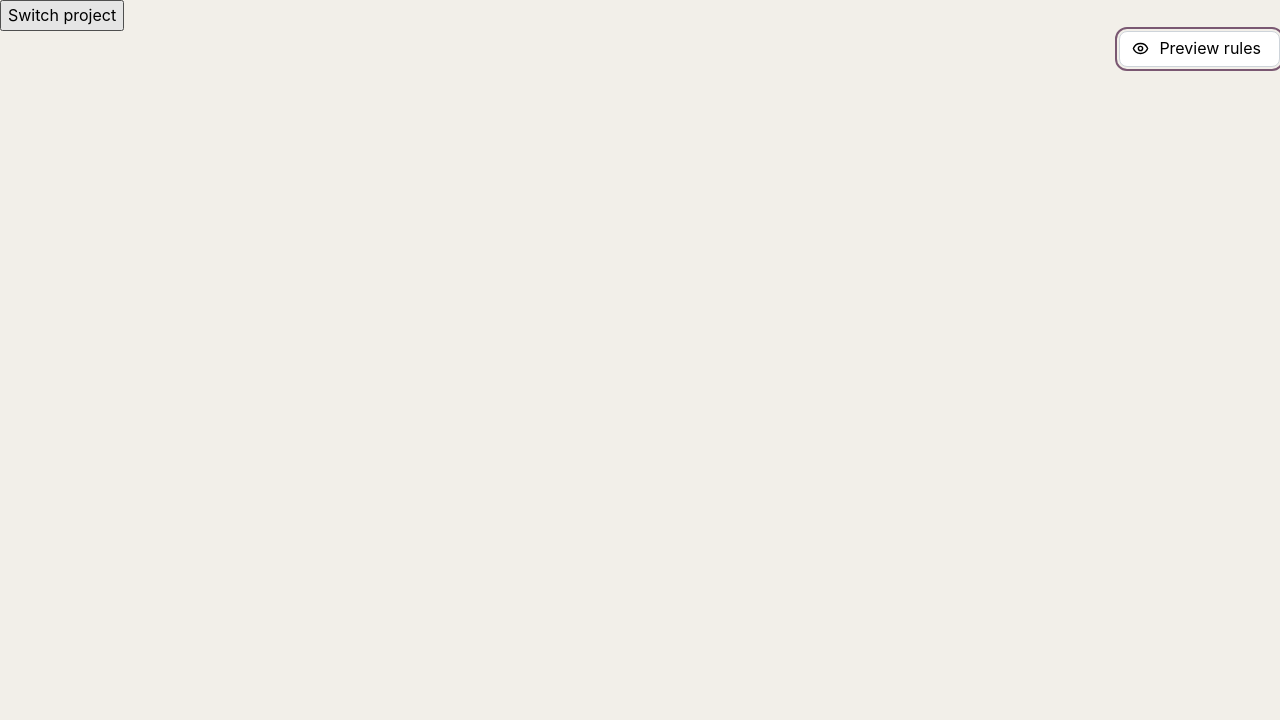
Test: privacy text keyboard close disposes sample/results and restores the actual opener
Step 1. Type keys "[Enter]"
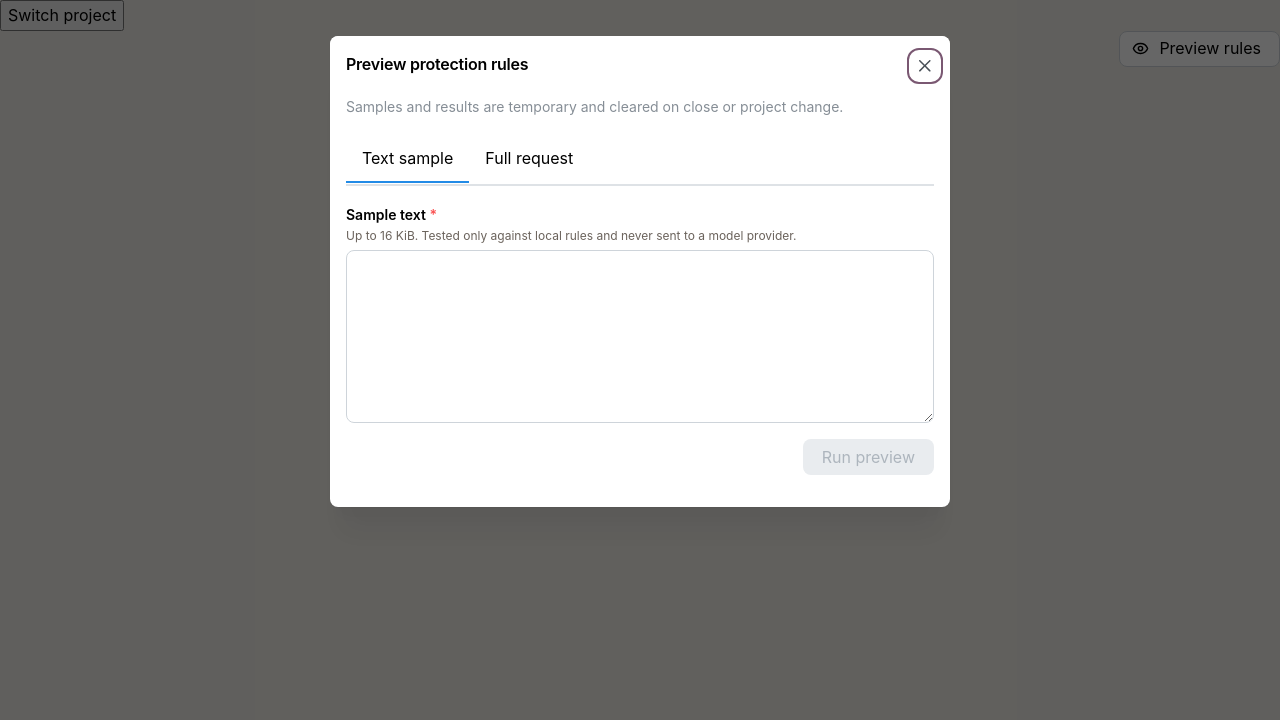
Check: the dialog is shown, box left=330, top=36, right=950, bottom=507
Step 2. Type "private keyboard sample" into the text box labelled "Sample text" → (640, 336), box left=346, top=250, right=934, bottom=423
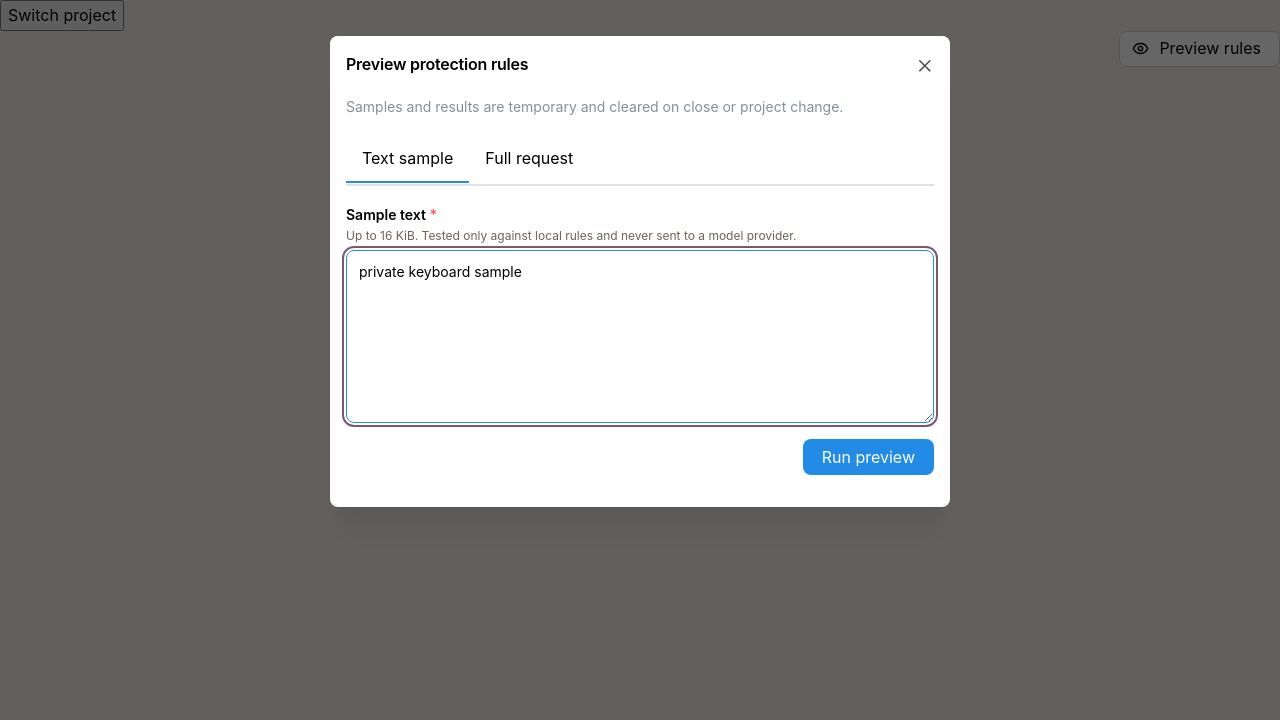
Step 3. Type keys "[Escape]"
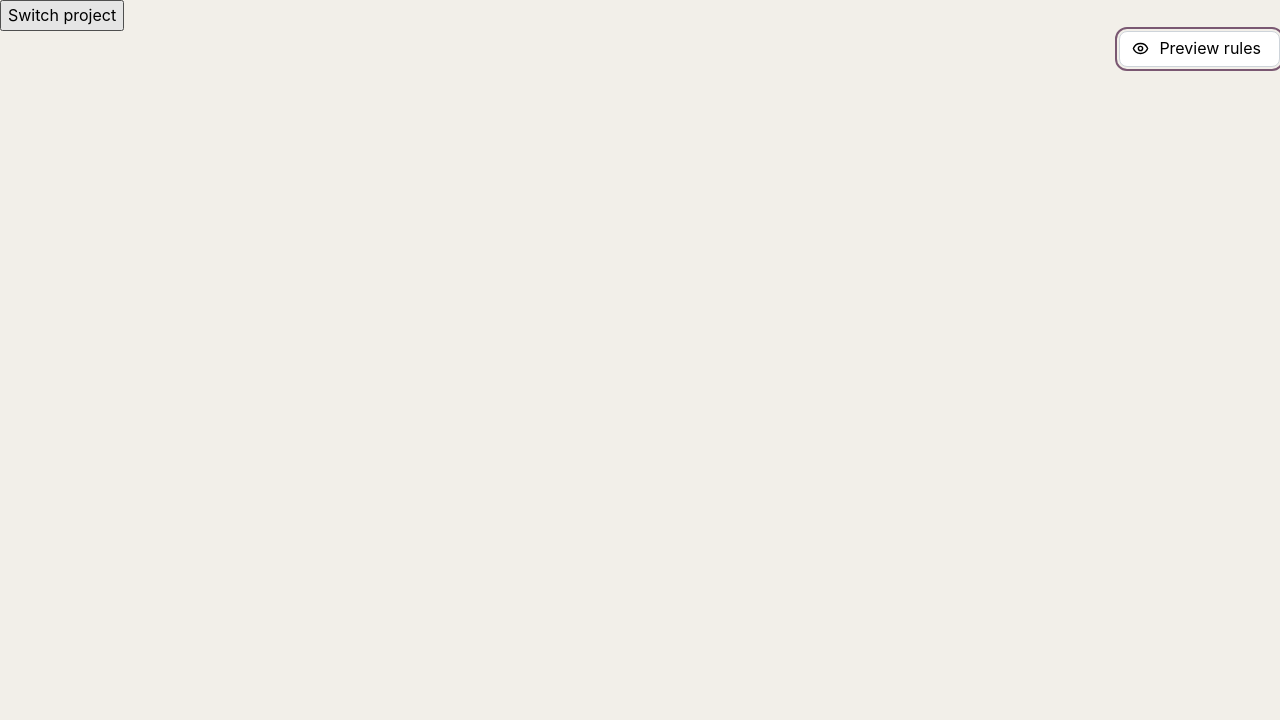
Check: the field showing "private keyboard sample" is not shown
Check: the dialog is gone
